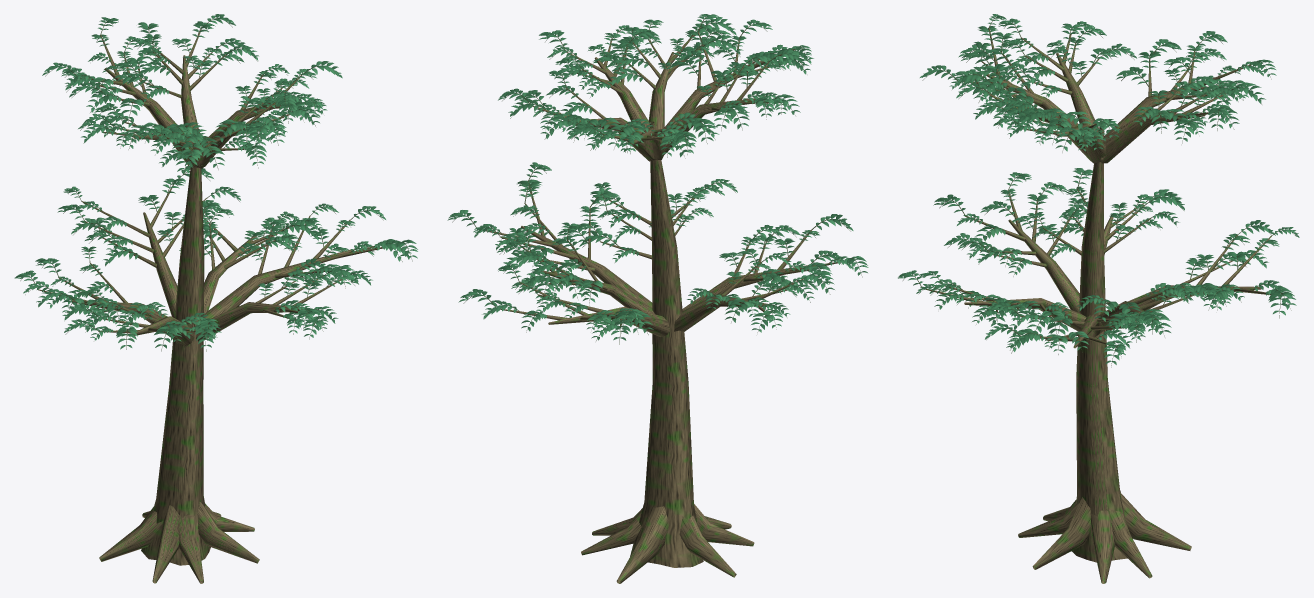
File: Umbrella Fig.glb
3 views of the same model, side by side, from view 1: azimuth 30°, elevation 25°; view 2: azimuth 150°, elevation 25°; view 3: azimuth 270°, elevation 25° (orthographic). The views are drawn at different scales.
Parts seen in each view (by area): view 1: Umbrella Fig; view 2: Umbrella Fig; view 3: Umbrella Fig.
Part boxes in pixels (x1,y1,x2,y2): Umbrella Fig: [14, 14, 417, 583]; Umbrella Fig: [447, 14, 868, 583]; Umbrella Fig: [898, 14, 1299, 583].
Size of the model in its own units: 14.17 by 17.76 by 13.08.
Materials: 3 (1 with a texture image).
